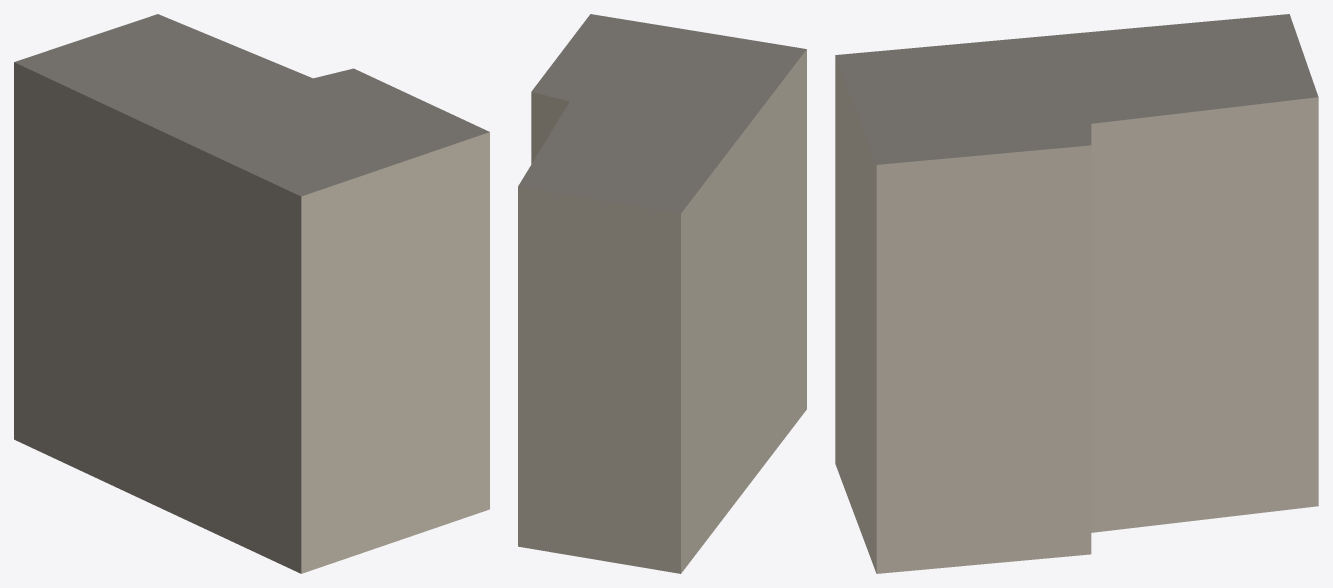
3 renders of one model, left to right at view 1: azimuth 30°, elevation 25°; view 2: azimuth 150°, elevation 25°; view 3: azimuth 270°, elevation 25°, orthographic. The views are drawn at different scales.
Visible parts, largest first — view 1: HP-w505664435; view 2: HP-w505664435; view 3: HP-w505664435.
Part boxes in pixels (x1,y1,x2,y2): HP-w505664435: [14, 14, 489, 573]; HP-w505664435: [518, 14, 806, 573]; HP-w505664435: [835, 14, 1318, 573].
Bounding box in the file's own units: 14.25 × 18 × 19.27.
